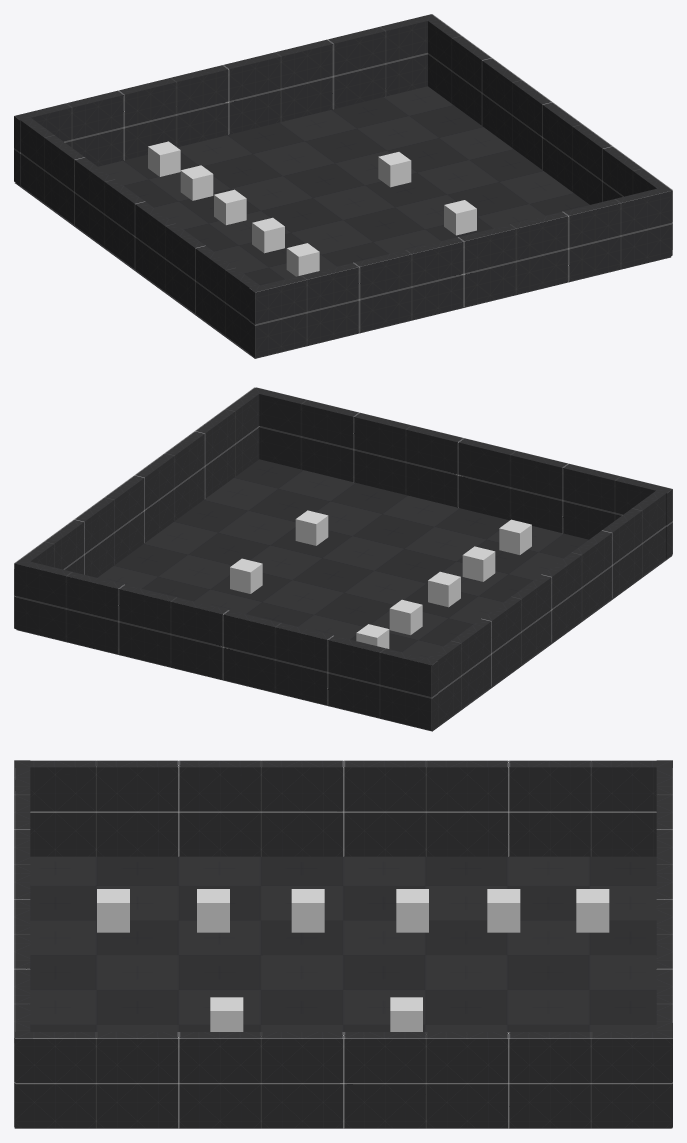
The model's file is StoryTest.glb.
3 views of the same model, one above another, from view 1: azimuth 30°, elevation 25°; view 2: azimuth 150°, elevation 25°; view 3: azimuth 270°, elevation 25° (orthographic). The views are drawn at different scales.
Visible parts, largest first — view 1: Walls, Floor, SpawnGlass, SpawnSurvivor, SpawnFather, SpawnMother, SpawnIA, SpawnPencil, SpawnGirl; view 2: Walls, Floor, SpawnMother, SpawnGirl, SpawnPencil, SpawnGlass, SpawnBoy, SpawnFather, SpawnSurvivor; view 3: Walls, Floor, SpawnFather, SpawnSurvivor, SpawnIA, SpawnBoy, SpawnGirl, SpawnMother, SpawnPencil, SpawnGlass.
Boxes of the visible parts, x1,y1,x2,y2 form: Walls: (14, 14, 672, 357); Floor: (15, 86, 670, 358); SpawnGlass: (378, 152, 411, 187); SpawnSurvivor: (180, 165, 213, 200); SpawnFather: (252, 217, 284, 253); SpawnMother: (214, 189, 246, 225); SpawnIA: (148, 141, 180, 176); SpawnPencil: (444, 200, 476, 235); SpawnGirl: (286, 243, 319, 276); Walls: (14, 387, 672, 730); Floor: (16, 459, 672, 731); SpawnMother: (389, 599, 422, 635); SpawnGirl: (462, 546, 495, 581); SpawnPencil: (295, 510, 328, 545); SpawnGlass: (230, 558, 262, 593); SpawnBoy: (499, 519, 531, 554); SpawnFather: (428, 571, 460, 607); SpawnSurvivor: (356, 624, 389, 648); Walls: (14, 760, 672, 1128); Floor: (14, 856, 671, 1128); SpawnFather: (291, 889, 324, 932); SpawnSurvivor: (487, 889, 520, 932); SpawnIA: (576, 889, 609, 932); SpawnBoy: (97, 889, 129, 932); SpawnGirl: (197, 889, 229, 932); SpawnMother: (396, 889, 428, 932); SpawnPencil: (210, 997, 243, 1031); SpawnGlass: (390, 997, 422, 1031).
Size of the model in its own units: 40.16 by 6.11 by 40.11.
10 materials, 2 textured.
